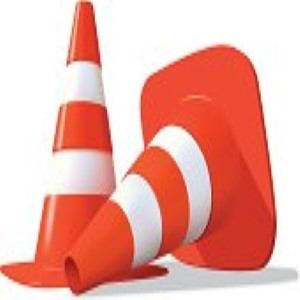traffic cone: (63, 44, 276, 296), (1, 1, 169, 288)
